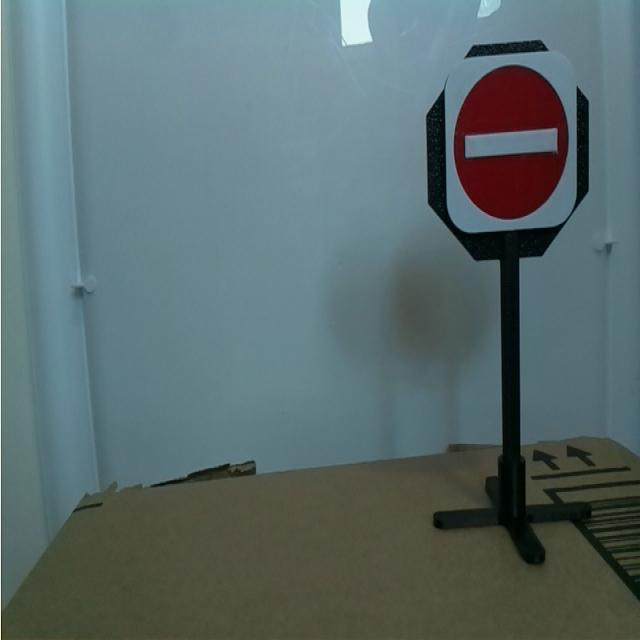sign_noentry: (443, 55, 579, 234)
